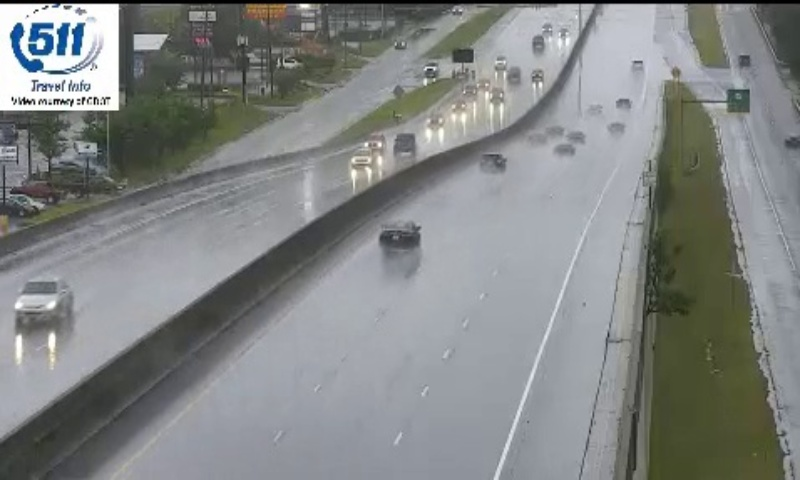car: (379, 221, 420, 251), (479, 152, 506, 173)
